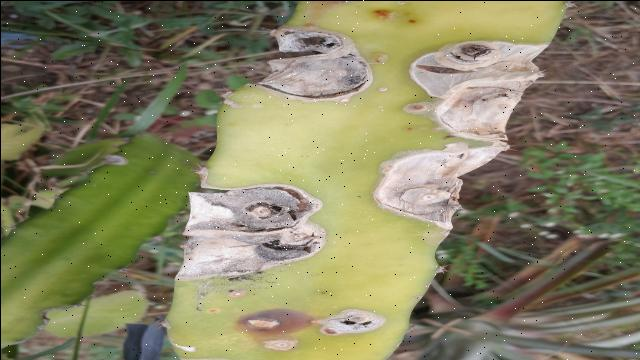stemcanker: (234, 301, 315, 342), (267, 340, 299, 355)
